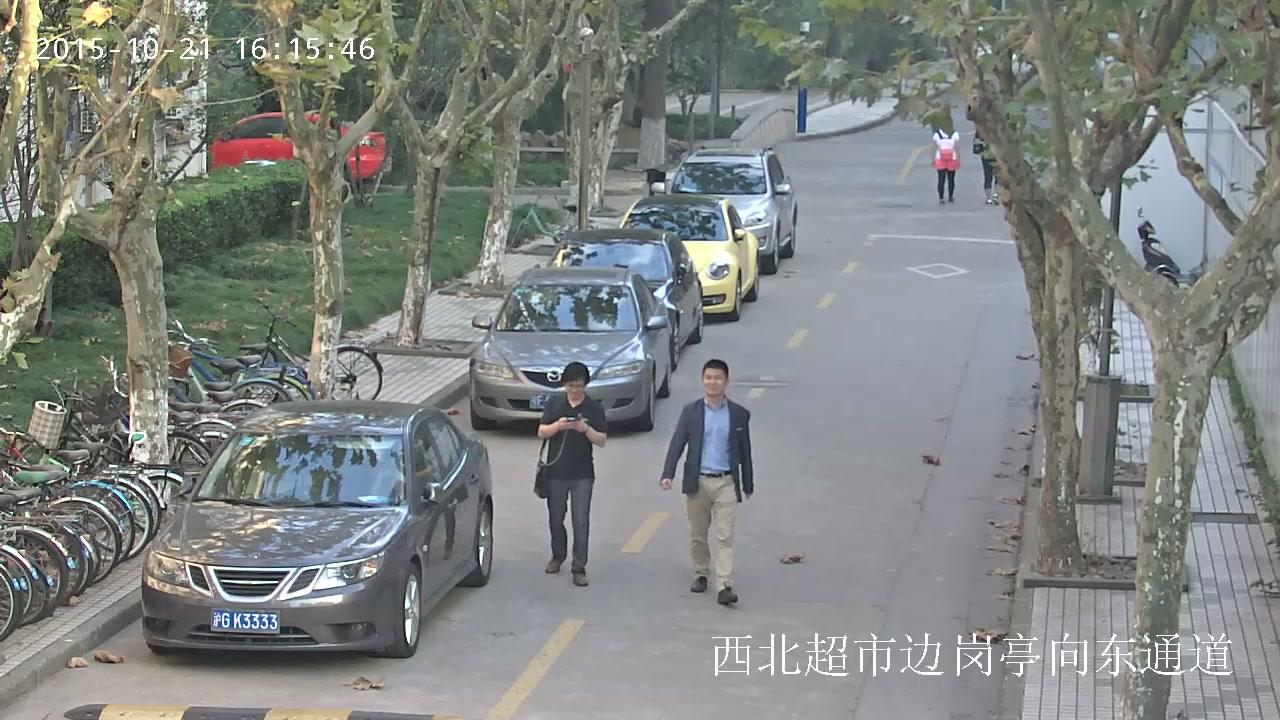face: (703, 367, 725, 394), (565, 379, 584, 398)
